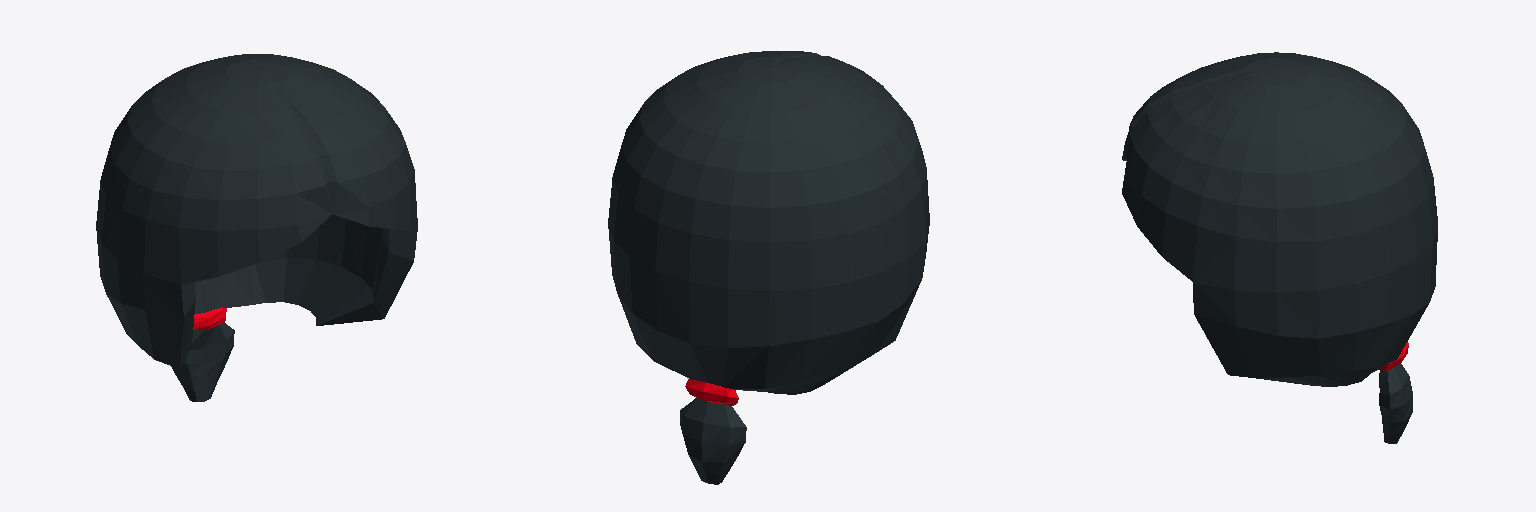
The model's file is mageHairA.obj.
3 views of the same model, side by side, from view 1: azimuth 30°, elevation 25°; view 2: azimuth 150°, elevation 25°; view 3: azimuth 270°, elevation 25° (orthographic).
Parts seen in each view (by area): view 1: mageHairA_Cube.3532; view 2: mageHairA_Cube.3532; view 3: mageHairA_Cube.3532.
Part boxes in pixels (bbox=[...]): mageHairA_Cube.3532: bbox=[96, 54, 417, 401]; mageHairA_Cube.3532: bbox=[608, 51, 929, 484]; mageHairA_Cube.3532: bbox=[1122, 52, 1437, 443].
Bounding box in the file's own units: 1.11 × 1.42 × 1.09.